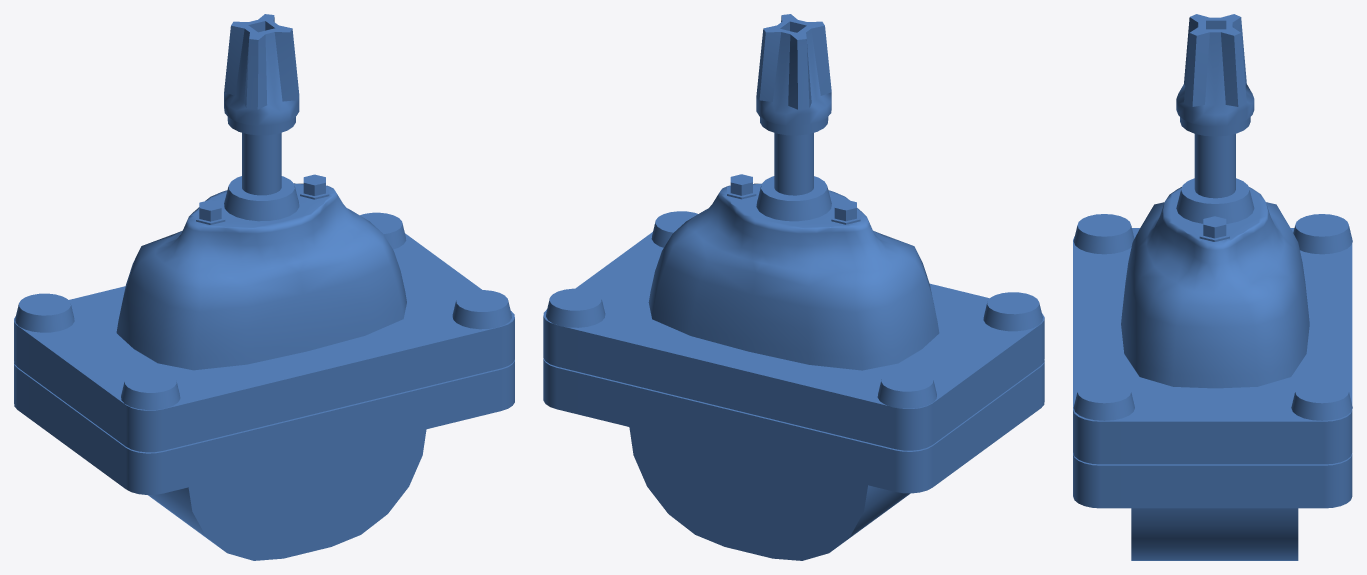
File: valve.fbx
The picture shows the model from 3 angles, left to right: view 1: azimuth 30°, elevation 25°; view 2: azimuth 150°, elevation 25°; view 3: azimuth 270°, elevation 25°; orthographic projection. The views are drawn at different scales.
Parts seen in each view (by area): view 1: Valve; view 2: Valve; view 3: Valve.
Part boxes in pixels (bbox=[...]): Valve: bbox=[14, 14, 514, 560]; Valve: bbox=[543, 14, 1044, 560]; Valve: bbox=[1073, 14, 1352, 560].
Size of the model in its own units: 0.1668 by 0.2056 by 0.1019.
